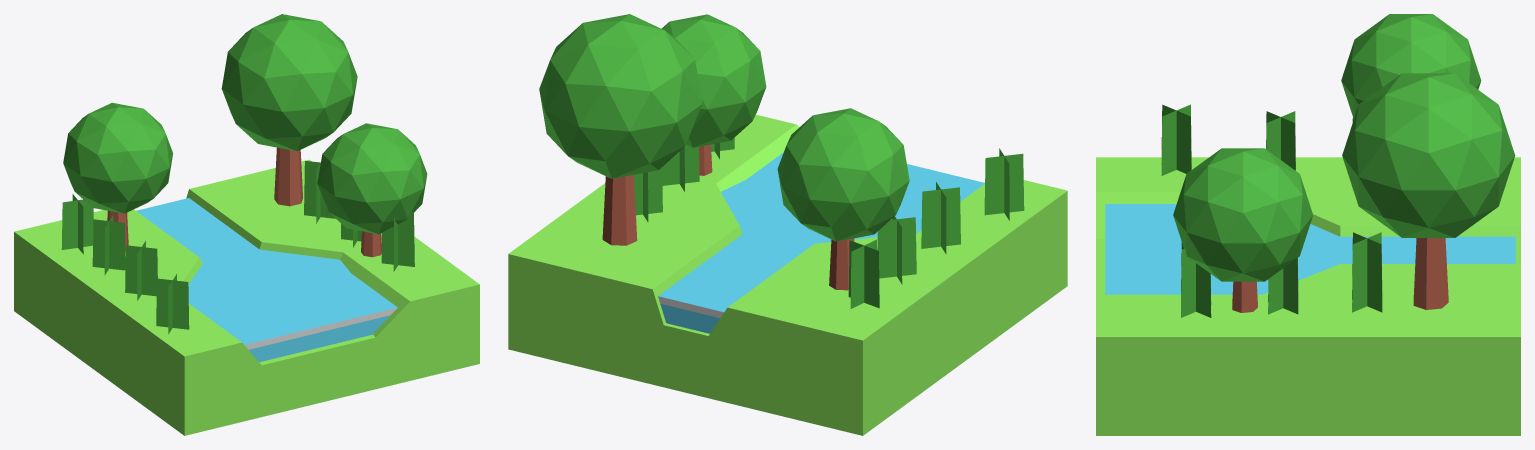
File: 3d_icons_park.fbx
The picture shows the model from 3 angles, left to right: view 1: azimuth 30°, elevation 25°; view 2: azimuth 150°, elevation 25°; view 3: azimuth 270°, elevation 25°; orthographic projection. The views are drawn at different scales.
Visible parts, largest first — view 1: park; view 2: park; view 3: park.
Part boxes in pixels (x1,y1,x2,y2): park: [14, 14, 479, 435]; park: [508, 14, 1067, 435]; park: [1096, 14, 1520, 435].
Size of the model in its own units: 200 by 168 by 200.
